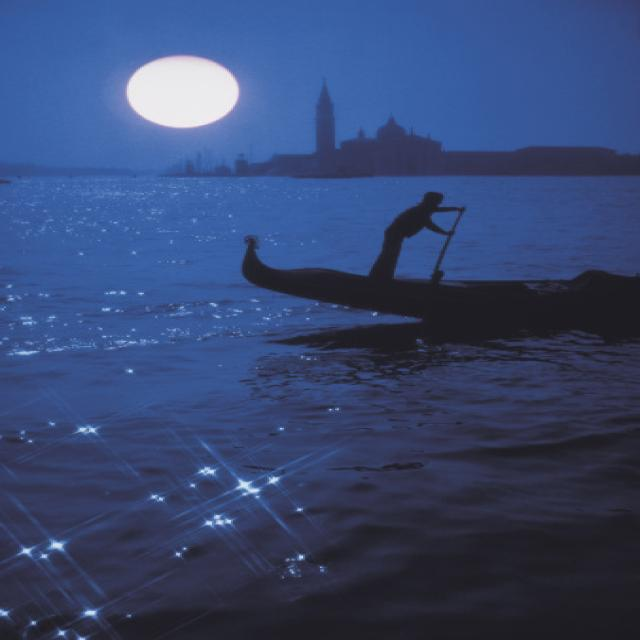Boat: (191, 220, 640, 354)
People: (354, 174, 471, 281)
